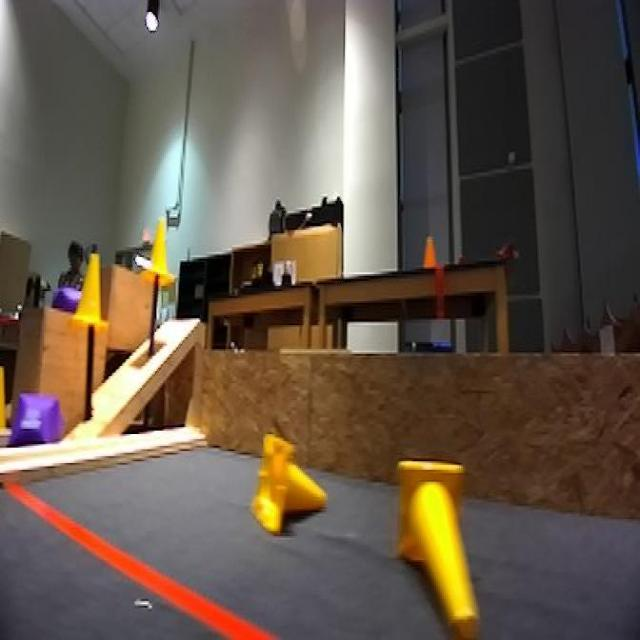frc_cone: (388, 446, 508, 640), (250, 434, 321, 540), (74, 249, 109, 337), (144, 218, 178, 298), (0, 361, 9, 437)
frc_cube: (9, 393, 61, 455), (46, 284, 86, 313)
